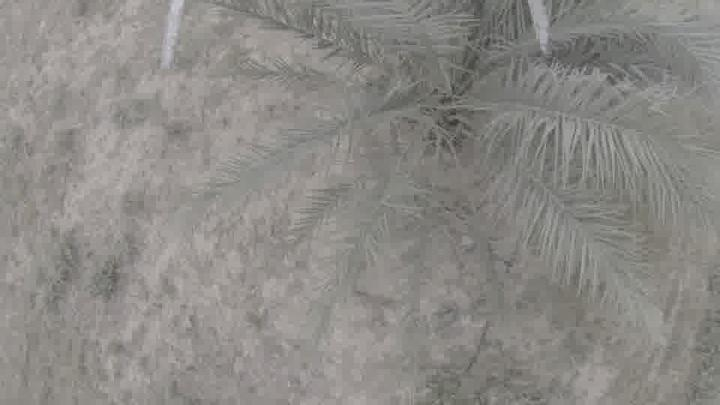Date-Palm-Crown: (285, 0, 630, 242)
